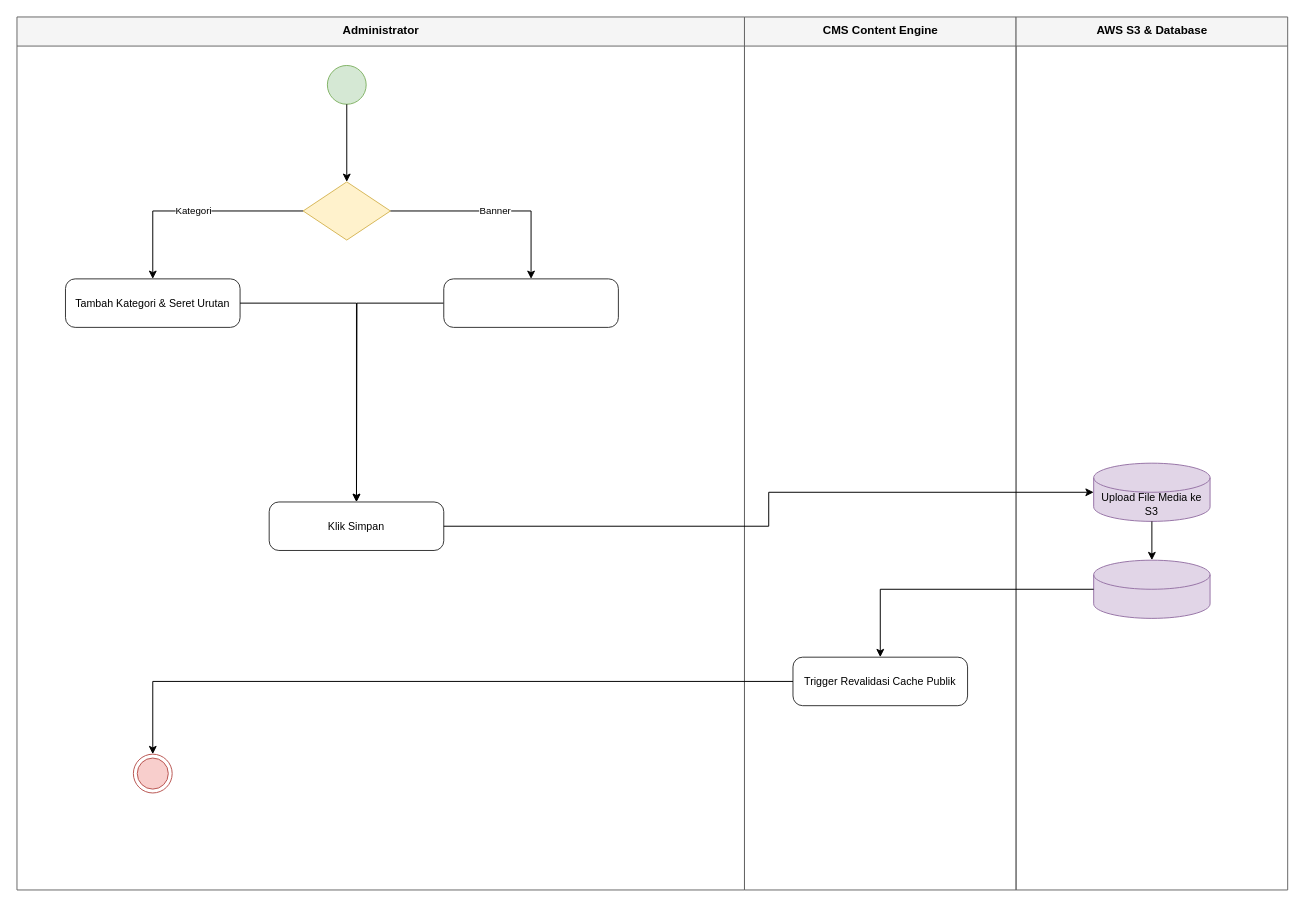
Some shapes in this 1305 by 907 pixel diagram are drawn without their labels. The shapes that lost their labels are listed below. From the top down, each one's centre as x and y in pixels, then its label:
[346,210]: Kelola Apa?
[530,302]: Tambah Banner & Link URL Promo
[1151,588]: Prisma: Update Kategori / Banner
